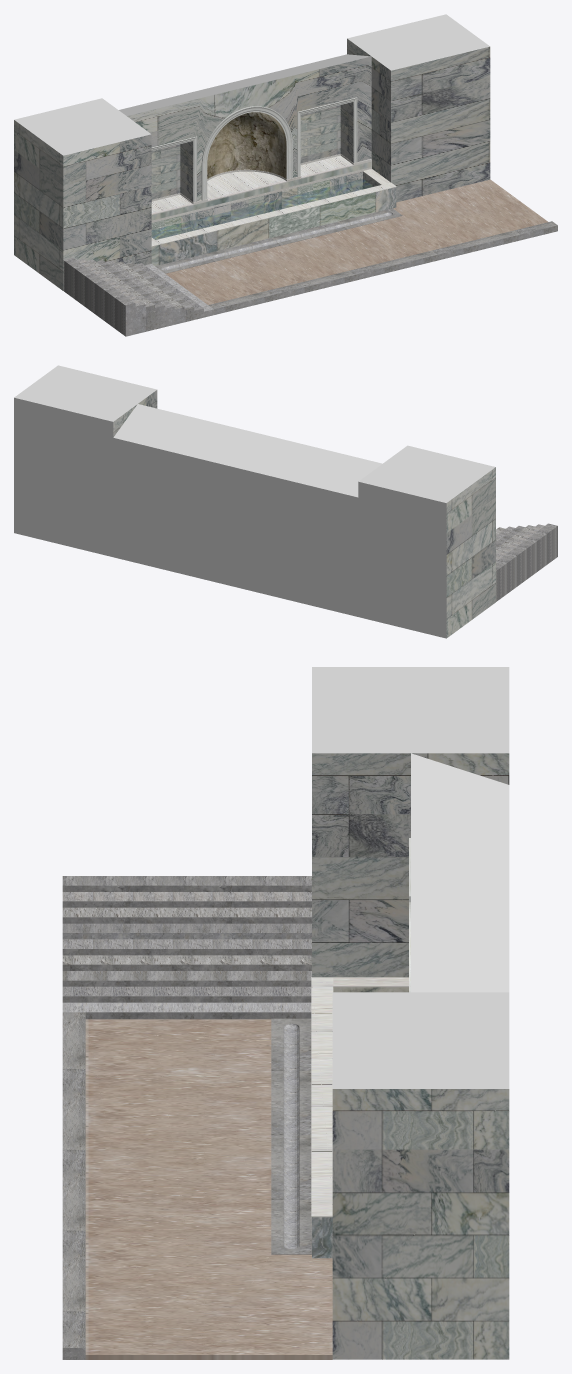
File: ninfeo_sessa_senza_statua.glb
The picture shows the model from 3 angles, top to bottom: view 1: azimuth 30°, elevation 25°; view 2: azimuth 150°, elevation 25°; view 3: azimuth 270°, elevation 25°; orthographic projection. The views are drawn at different scales.
Parts seen in each view (by area): view 1: muri ninfeo-Nuovo, pavimento, canaletta, abide, Estrusione.1, muri ninfeo-material0000.3, mensola nicchie, Sweep.2, vosca2-material0000.7, acqua, Estrusione.3; view 2: abide, muri ninfeo-Nuovo, canaletta; view 3: muri ninfeo-Nuovo, pavimento, abide, canaletta, vosca2-material0000.7, Estrusione.1.
Boxes of the visible parts, x1,y1,x2,y2 form: muri ninfeo-Nuovo: [14, 38, 490, 290]; pavimento: [165, 179, 547, 304]; canaletta: [63, 208, 557, 336]; abide: [14, 14, 489, 155]; Estrusione.1: [151, 161, 396, 265]; muri ninfeo-material0000.3: [207, 112, 286, 178]; mensola nicchie: [151, 155, 353, 214]; Sweep.2: [151, 97, 357, 201]; vosca2-material0000.7: [151, 167, 396, 246]; acqua: [152, 179, 373, 239]; Estrusione.3: [151, 154, 371, 204]; abide: [14, 365, 495, 638]; muri ninfeo-Nuovo: [113, 390, 495, 637]; canaletta: [496, 523, 557, 601]; muri ninfeo-Nuovo: [312, 753, 509, 1359]; pavimento: [85, 1019, 332, 1359]; abide: [312, 667, 509, 1088]; canaletta: [62, 876, 311, 1359]; vosca2-material0000.7: [311, 977, 408, 1217]; Estrusione.1: [312, 987, 408, 1258].
Bounding box in the file's own units: 16.3 × 4.88 × 7.29.
Materials: 9 (8 with a texture image).
